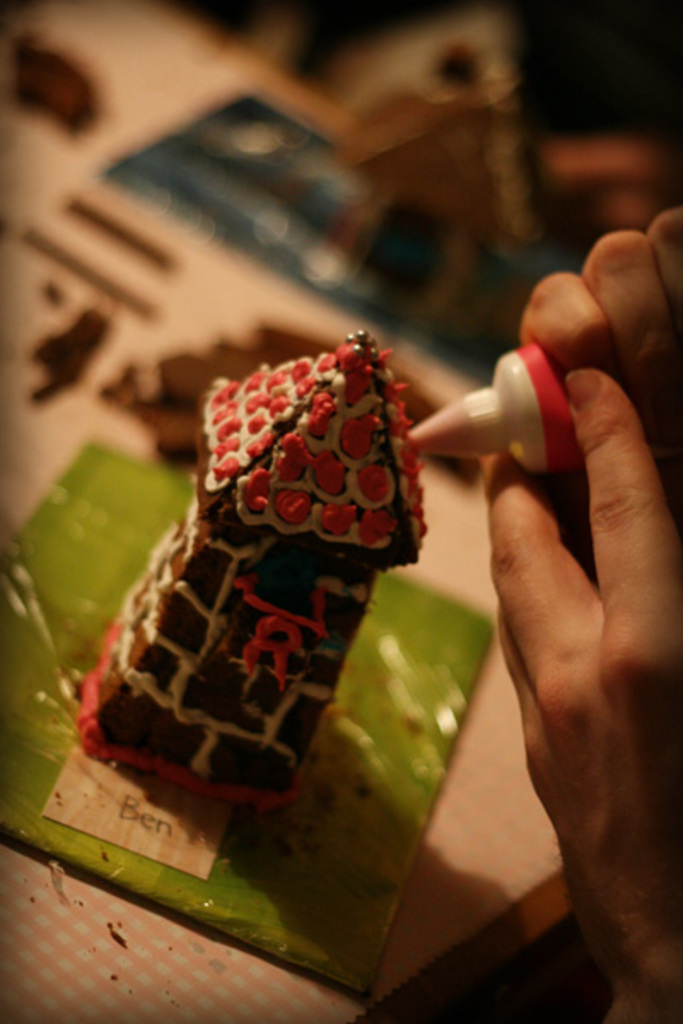Human_hand: (468, 297, 678, 993), (516, 208, 681, 522)
